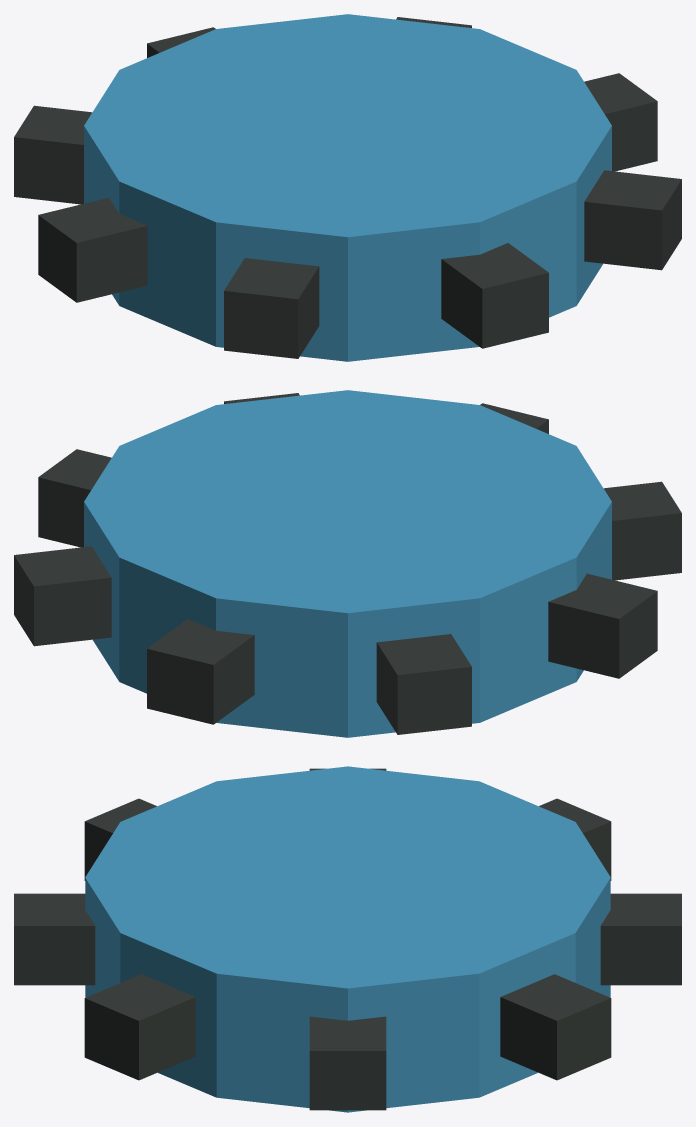
Rendered from Bastion_PowerPlant_TurbineSpin.obj.
3 views of the same model, one above another, from view 1: azimuth 30°, elevation 25°; view 2: azimuth 150°, elevation 25°; view 3: azimuth 270°, elevation 25° (orthographic).
Visible parts, largest first — view 1: Bastion_PowerPlant_TurbineSpin; view 2: Bastion_PowerPlant_TurbineSpin; view 3: Bastion_PowerPlant_TurbineSpin.
Part boxes in pixels (box(x1,y1,x2,y2)): Bastion_PowerPlant_TurbineSpin: box(14, 14, 681, 361); Bastion_PowerPlant_TurbineSpin: box(14, 390, 681, 737); Bastion_PowerPlant_TurbineSpin: box(14, 766, 681, 1112).
Size of the model in its own units: 1.22 by 0.25 by 1.22.
1 material, 1 textured.
